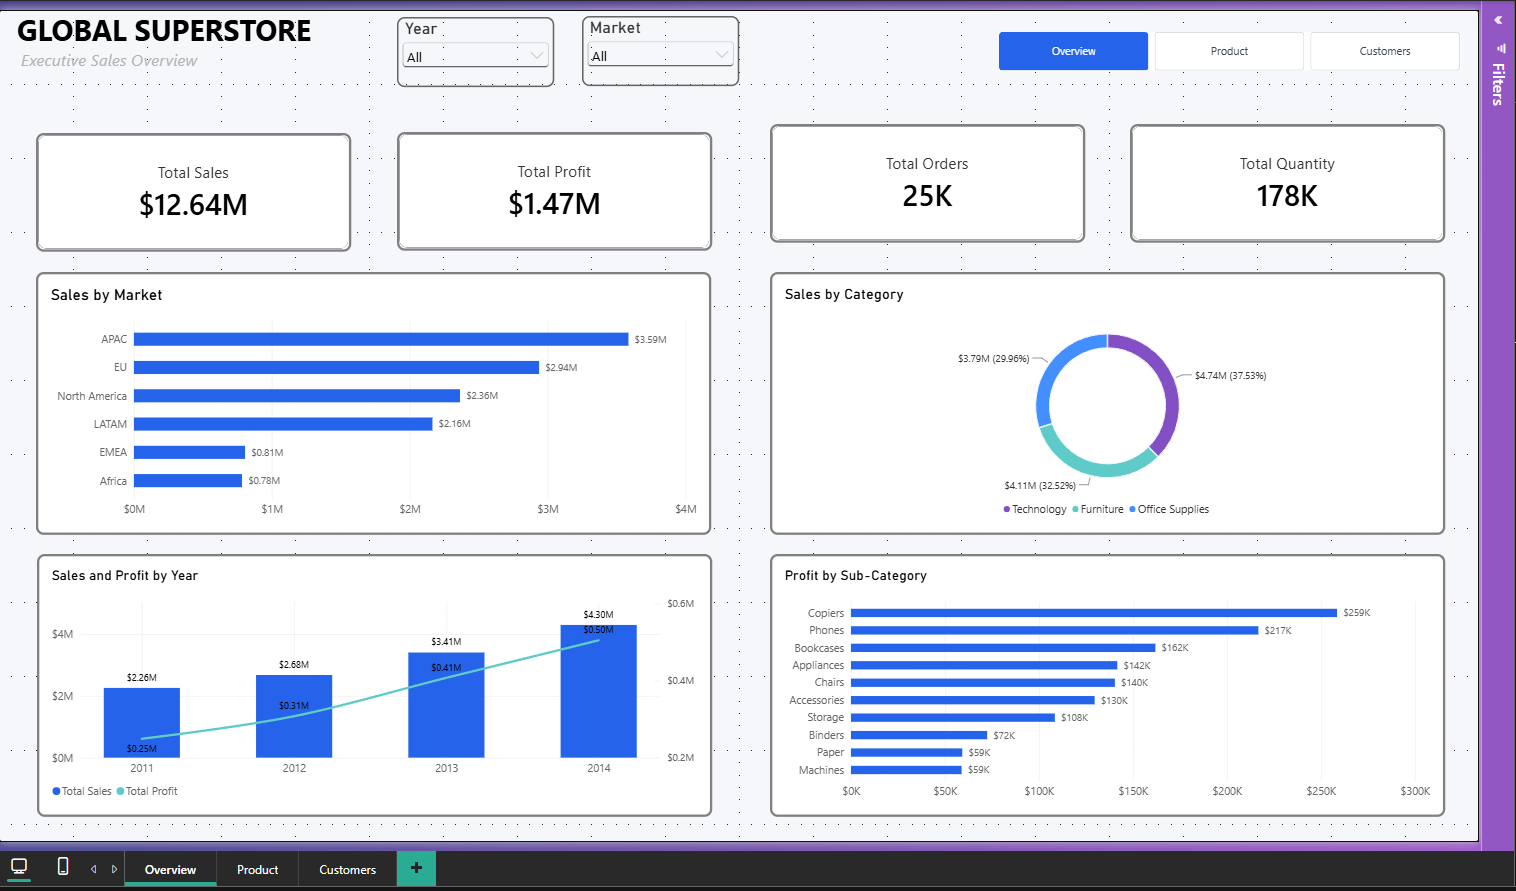

The dashboard page shown, as its layout file describes it:
{"tool":"powerbi","page":{"name":"Overview","canvas":[1920,1080],"ordinal":0},"visuals":[{"type":"cardVisual","fields":{"Data":["Global Superstore.Total Profit"]},"box":[516.3,158.3,408.8,154],"z":1},{"type":"clusteredBarChart","title":"Sales by Market","fields":{"Category":["Global Superstore.Market2"],"Y":["Global Superstore.Total Sales"]},"box":[48,339.9,875.7,341.2],"z":4},{"type":"donutChart","title":"Sales by Category","fields":{"Category":["Global Superstore.Category"],"Y":["Global Superstore.Total Sales"]},"box":[1000.2,339.9,875.7,341.2],"z":5},{"type":"lineClusteredColumnComboChart","title":"Sales and Profit by Year","fields":{"Category":["Global Superstore.Year"],"Y":["Global Superstore.Total Sales"],"Y2":["Global Superstore.Total Profit"]},"box":[49.3,705.7,875.7,341.2],"z":6},{"type":"clusteredBarChart","title":"Profit by Sub-Category","fields":{"Category":["Global Superstore.Sub-Category"],"Y":["Global Superstore.Total Profit"]},"box":[1000.2,705.7,875.7,341.2],"z":7},{"type":"textbox","box":[23.4,0,399.6,107.7],"z":8},{"type":"slicer","fields":{"Values":["Global Superstore.Year"]},"box":[516.3,9.1,203.7,90.8],"z":9},{"type":"slicer","fields":{"Values":["Global Superstore.Market2"]},"box":[721.3,7.8,203.7,90.8],"z":10},{"type":"pageNavigator","box":[1296.7,28.1,600,50],"z":11},{"type":"cardVisual","fields":{"Data":["Global Superstore.Total Sales"]},"box":[48,159.6,408.8,154],"z":12},{"type":"cardVisual","fields":{"Data":["Global Superstore.Total Orders"]},"box":[1000.2,147.9,408.8,154],"z":13},{"type":"cardVisual","fields":{"Data":["Global Superstore.Total Quantity"]},"box":[1467.2,147.9,408.8,154],"z":14}]}

Visuals, with their boxes on the page's 1920x1080 design canvas (x1, y1, x2, y2). These are canvas units, not pixel positions in the 1516x891 screenshot, which may show the page scaled, cropped or inside an application window:
cardVisual - Global Superstore.Total Profit: box=[516, 158, 925, 312]
"Sales by Market" clusteredBarChart: box=[48, 340, 924, 681]
"Sales by Category" donutChart: box=[1000, 340, 1876, 681]
"Sales and Profit by Year" lineClusteredColumnComboChart: box=[49, 706, 925, 1047]
"Profit by Sub-Category" clusteredBarChart: box=[1000, 706, 1876, 1047]
textbox: box=[23, 0, 423, 108]
slicer - Global Superstore.Year: box=[516, 9, 720, 100]
slicer - Global Superstore.Market2: box=[721, 8, 925, 99]
pageNavigator: box=[1297, 28, 1897, 78]
cardVisual - Global Superstore.Total Sales: box=[48, 160, 457, 314]
cardVisual - Global Superstore.Total Orders: box=[1000, 148, 1409, 302]
cardVisual - Global Superstore.Total Quantity: box=[1467, 148, 1876, 302]
